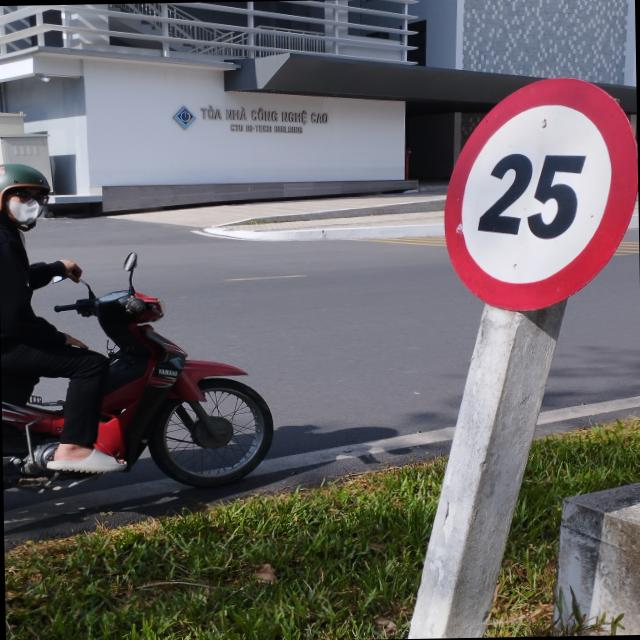Tre_Em: (442, 74, 640, 310)
